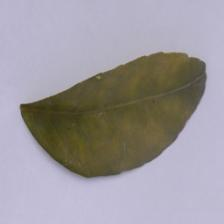greening: (17, 68, 184, 150)
